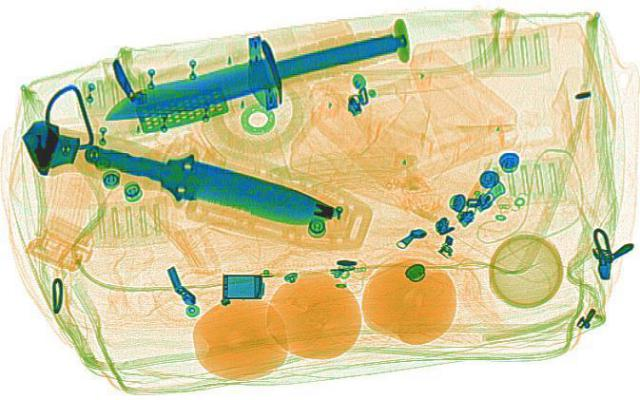Knife: (74, 0, 442, 145), (65, 126, 352, 238)
